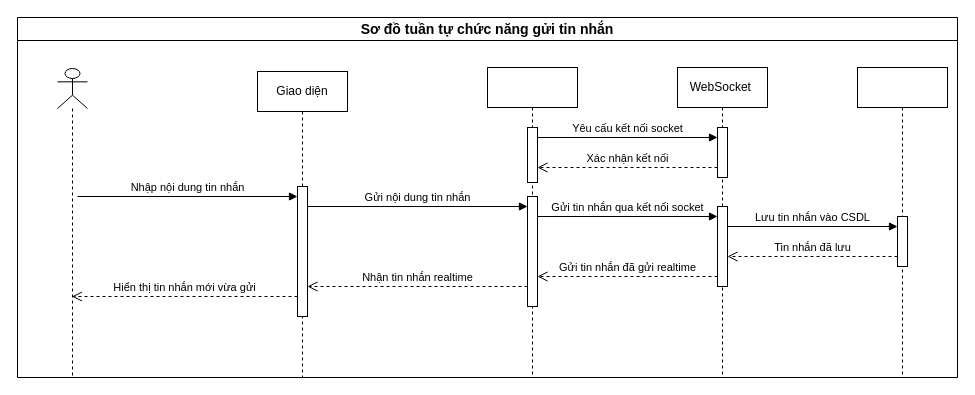
The diagram is 975 pixels wide and 395 high, and some of its shapes have lost their labels. Each missing label, with the centre of its shape:
"MySQL" goes at (x=902, y=222).
"Web Client" goes at (x=532, y=222).
